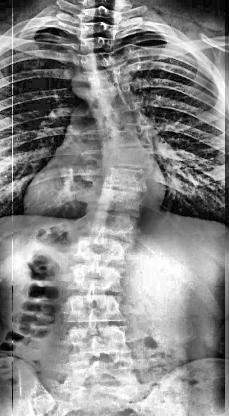Vertebrae: (68, 353, 142, 387), (65, 321, 131, 357), (63, 292, 127, 324), (65, 262, 125, 294), (103, 142, 159, 173), (97, 164, 154, 194), (72, 235, 130, 264), (82, 208, 142, 236), (102, 113, 154, 143), (94, 186, 146, 212), (76, 50, 128, 70), (92, 99, 146, 118), (83, 68, 133, 86), (87, 84, 136, 102), (79, 4, 123, 24), (76, 20, 118, 40), (74, 34, 117, 52)
